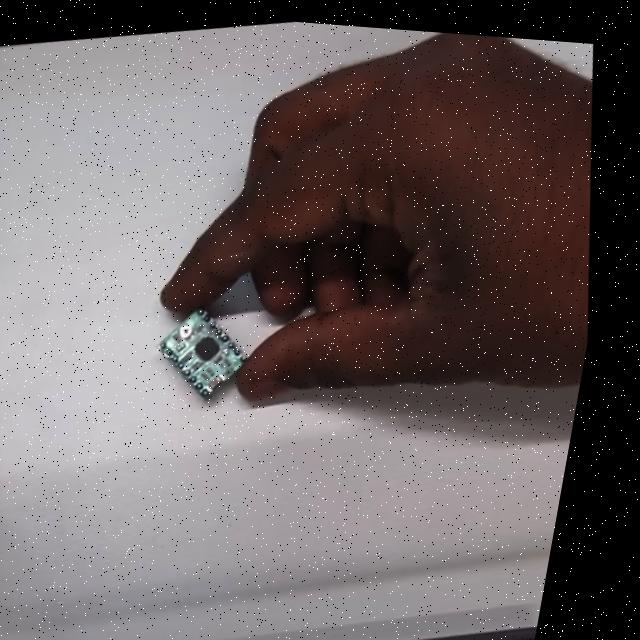Chip: (137, 305, 259, 410)
